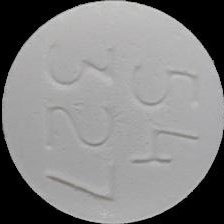0054-0111: (0, 0, 224, 224)
